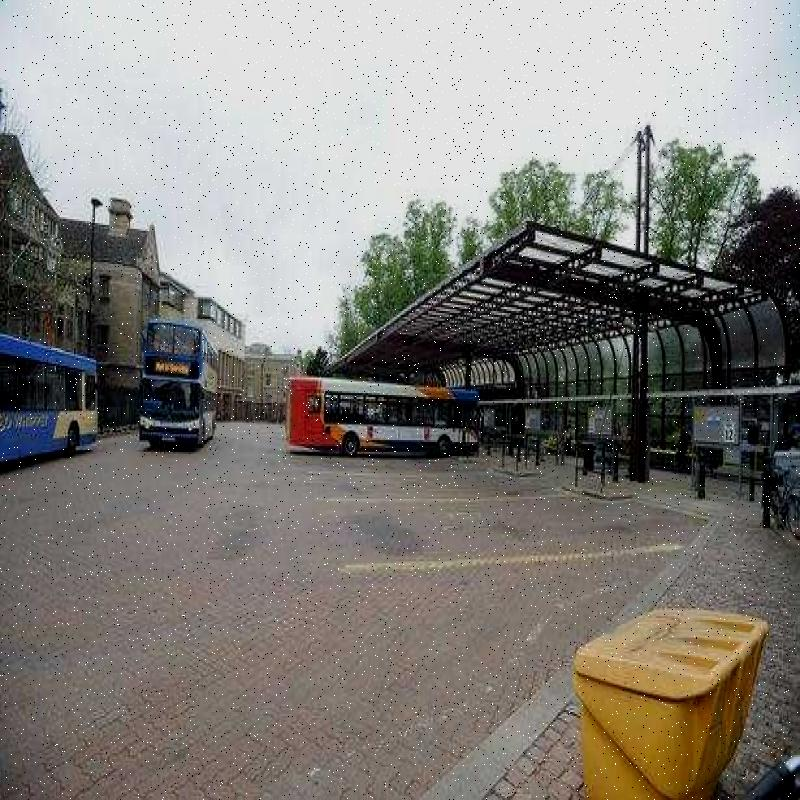bus: (280, 370, 493, 472), (134, 314, 227, 474)
